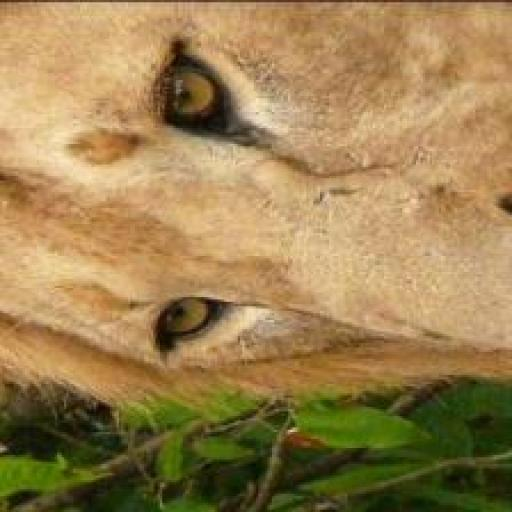lion: (11, 4, 512, 447)
